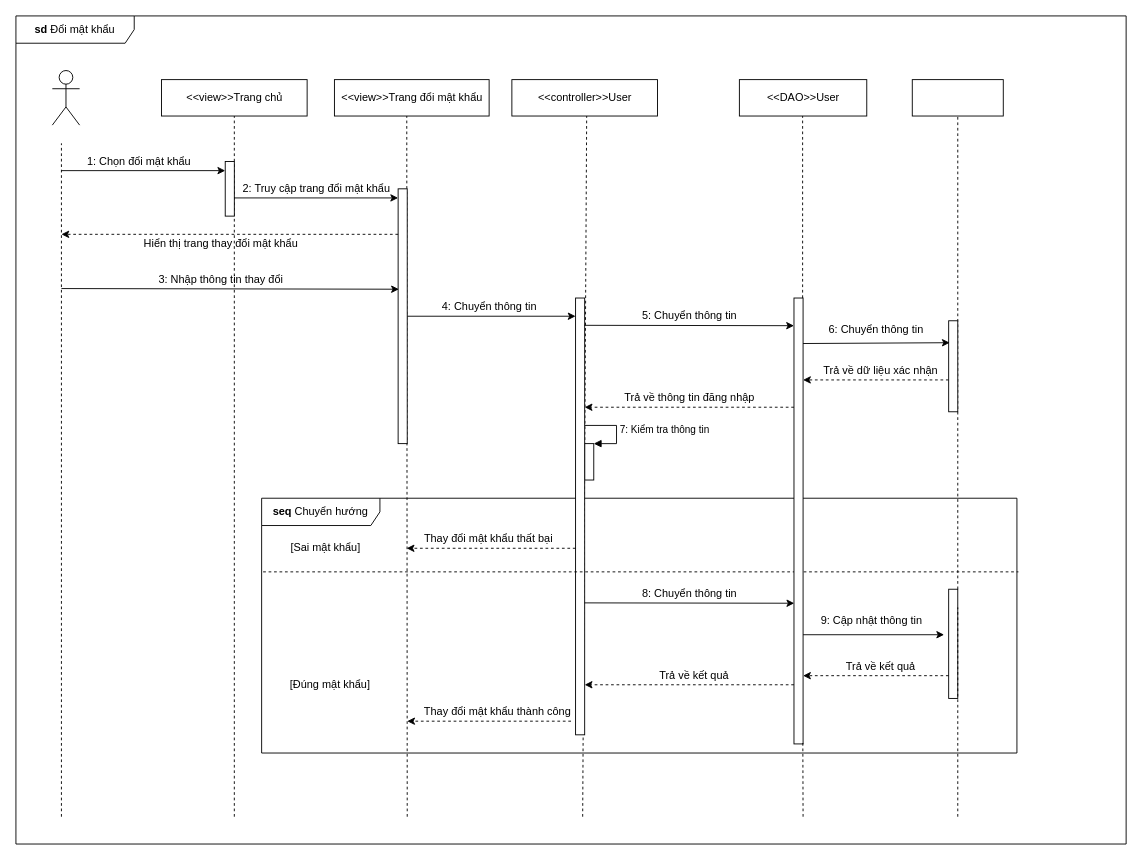
This 1142x860 diagram has some shape labels left out. The shapes that lost their labels are listed below. From the top down, each one's centre as x and y in pixels, then its label:
At pixel 65 97: "Người dùng".
At pixel 957 97: "Database".
